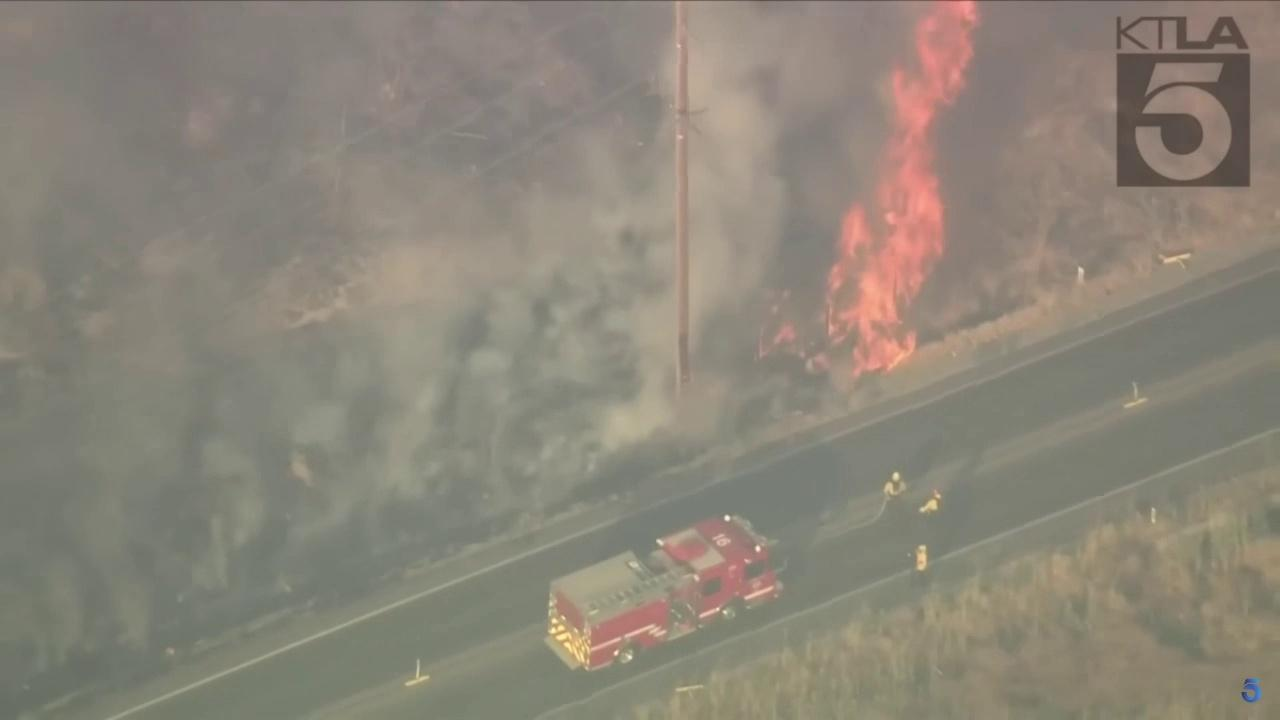fire: (808, 0, 984, 381), (750, 321, 798, 365)
smoke: (0, 0, 913, 720)
